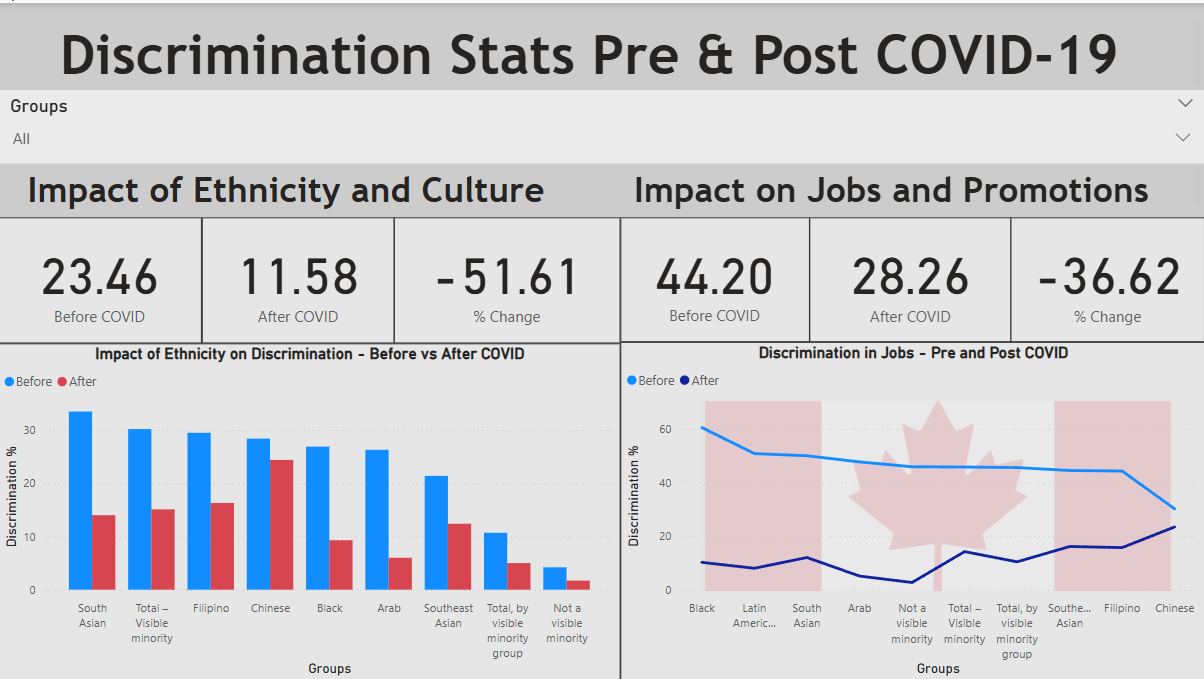

The page's visual inventory and layout, read from the dashboard file:
{"tool":"powerbi","page":{"name":"Discrimination","canvas":[1280,720],"ordinal":2},"visuals":[{"type":"clusteredColumnChart","title":"Impact of Ethnicity on Discrimination - Before vs After COVID","fields":{"Category":["15 years or older - discrimination.Groups"],"Y":["Avg(15 years or older - discrimination.Before(Ethnicity_Culture))","Avg(15 years or older - discrimination.After(Ethnicity_Culture))"]},"box":[0,360.9,660,358.1],"z":1000},{"type":"lineChart","title":"Discrimination in Jobs - Pre and Post COVID","fields":{"Category":["immigration - discrimination.Groups"],"Y":["Avg(immigration - discrimination.Before(Job_Promotion))","Avg(immigration - discrimination.After(Ethnicity_Culture))"]},"box":[660,360,620,360],"z":2000},{"type":"textbox","box":[0,14,1280,78],"z":3000},{"type":"card","fields":{"Values":["Avg(15 years or older - discrimination.Before(Ethnicity_Culture))"]},"box":[0,228,216,133],"z":4000},{"type":"card","fields":{"Values":["Avg(15 years or older - discrimination.After(Ethnicity_Culture))"]},"box":[216,228,204,133],"z":5000},{"type":"card","fields":{"Values":["Avg(15 years or older - discrimination.Percentage Change)"]},"box":[419.9,227.8,240.1,133.1],"z":6000},{"type":"textbox","box":[0,170,622,58],"z":7000},{"type":"slicer","fields":{"Values":["immigration - discrimination.Groups"]},"box":[0,91.9,1280.3,78.2],"z":8000},{"type":"textbox","box":[622,170,658,58],"z":9000},{"type":"card","fields":{"Values":["Avg(15 years or older - discrimination.Before(Job_Promotion))"]},"box":[660,227.8,200.3,131.7],"z":10000},{"type":"card","fields":{"Values":["Avg(15 years or older - discrimination.After(Job_Promotion))"]},"box":[860,228,214,132],"z":11000},{"type":"card","fields":{"Values":["Avg(15 years or older - discrimination.Percentage Change (Job_Promotion))"]},"box":[1074,228,206,132],"z":12000}]}

Visuals, with their boxes on the page's 1280x720 design canvas (x1, y1, x2, y2). These are canvas units, not pixel positions in the 1204x679 screenshot, which may show the page scaled, cropped or inside an application window:
"Impact of Ethnicity on Discrimination - Before vs After COVID" clusteredColumnChart: 0/361/660/719
"Discrimination in Jobs - Pre and Post COVID" lineChart: 660/360/1280/720
textbox: 0/14/1280/92
card - Avg(15 years or older - discrimination.Before(Ethnicity_Culture)): 0/228/216/361
card - Avg(15 years or older - discrimination.After(Ethnicity_Culture)): 216/228/420/361
card - Avg(15 years or older - discrimination.Percentage Change): 420/228/660/361
textbox: 0/170/622/228
slicer - immigration - discrimination.Groups: 0/92/1280/170
textbox: 622/170/1280/228
card - Avg(15 years or older - discrimination.Before(Job_Promotion)): 660/228/860/360
card - Avg(15 years or older - discrimination.After(Job_Promotion)): 860/228/1074/360
card - Avg(15 years or older - discrimination.Percentage Change (Job_Promotion)): 1074/228/1280/360
